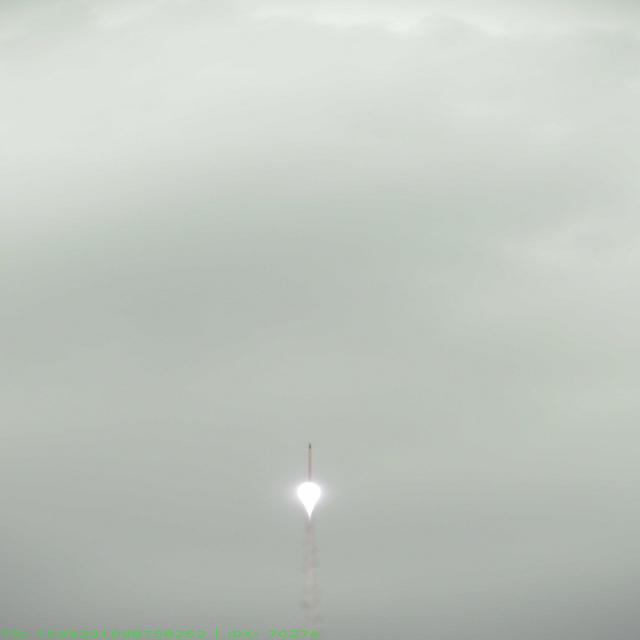Rocket: (307, 443, 313, 482)
